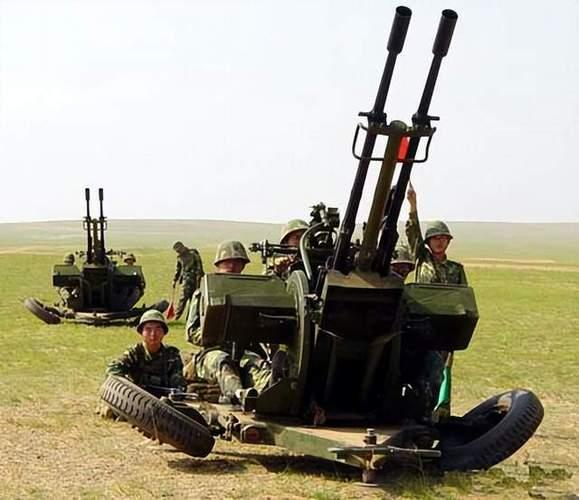MIL_SPG: (100, 8, 544, 480), (24, 189, 149, 325)
